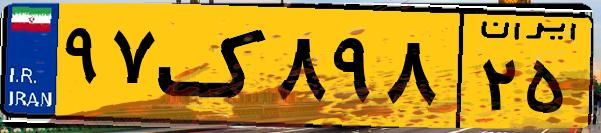2: (475, 38, 525, 113)
5: (525, 38, 570, 115)
7: (110, 28, 158, 98)
8: (270, 28, 330, 110), (385, 28, 445, 110)
9: (330, 28, 385, 110), (57, 26, 110, 100)
ک: (158, 12, 270, 120)
